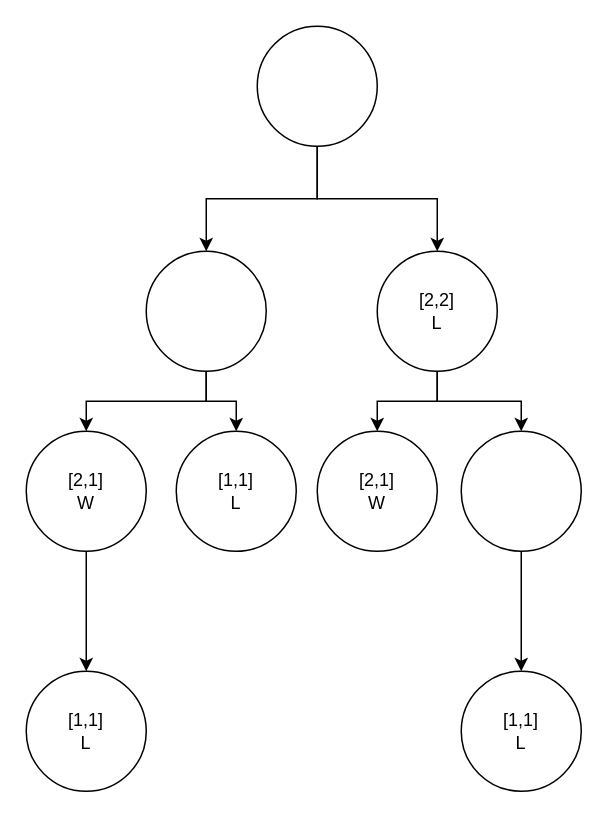
Some shapes in this 608 by 818 pixel diagram are drawn without their labels. The box of each missing label's shape, as (x1, y1, x2, y2) in pixels:
[1,2] W: (460, 430, 581, 551)
[3,1] W: (145, 250, 266, 371)
[3,2] W: (256, 25, 377, 146)
